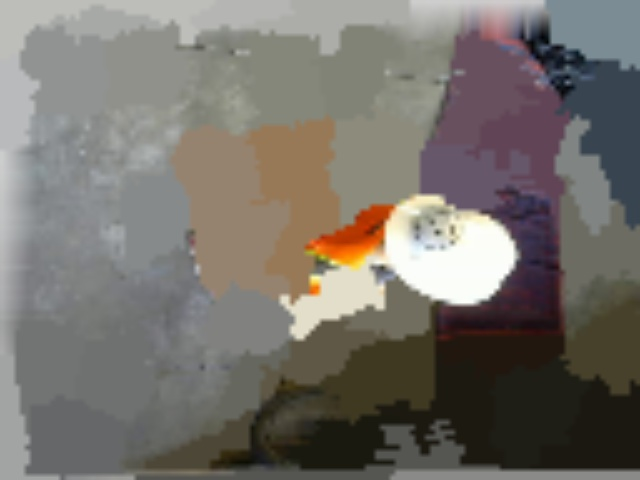eight: (414, 212, 464, 250)
